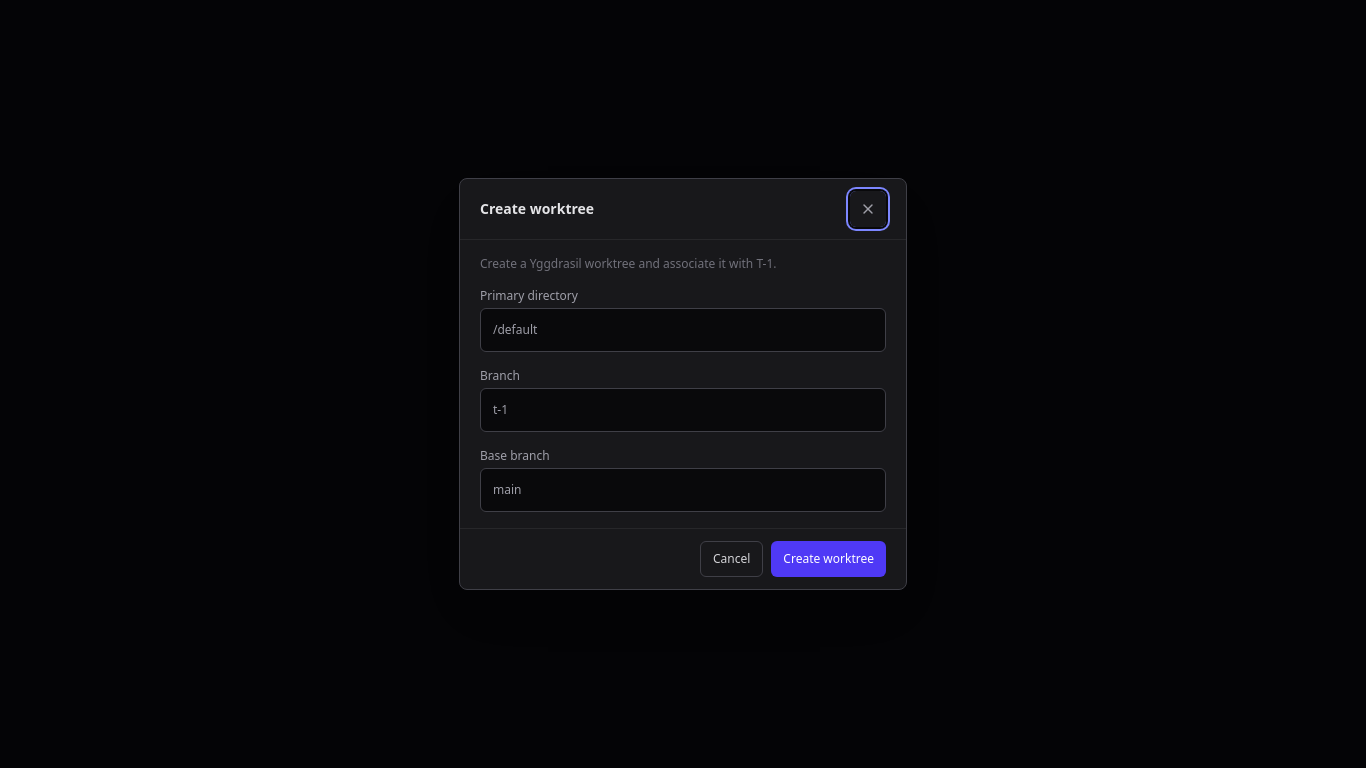
Test: WorktreeModal › preserves editable values and shows server errors
This screenshot has width=1366, height=768.
Replace the text in the field labelled "Primary directory" with "/custom" at (683, 330), box [480,308,886,352]
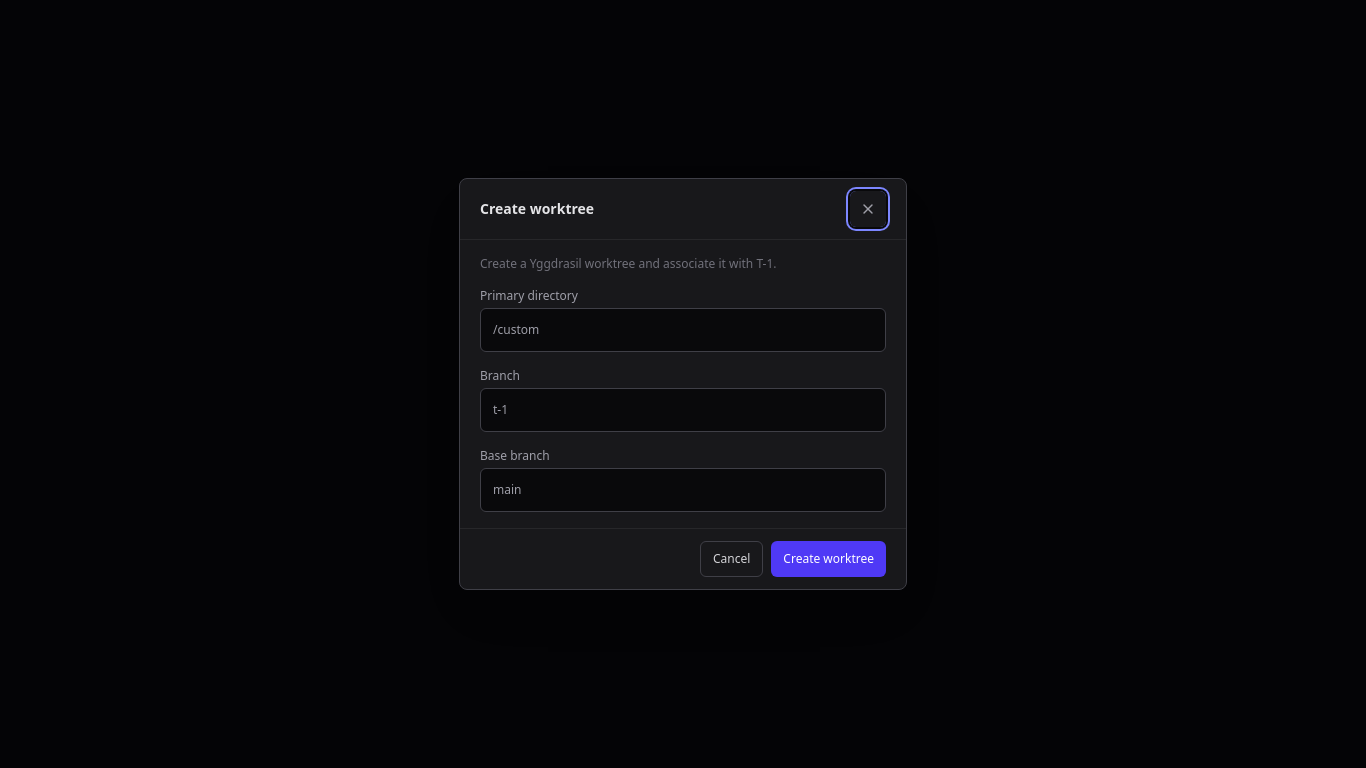
Click the button "Create worktree" at (829, 559), box [771,541,886,577]
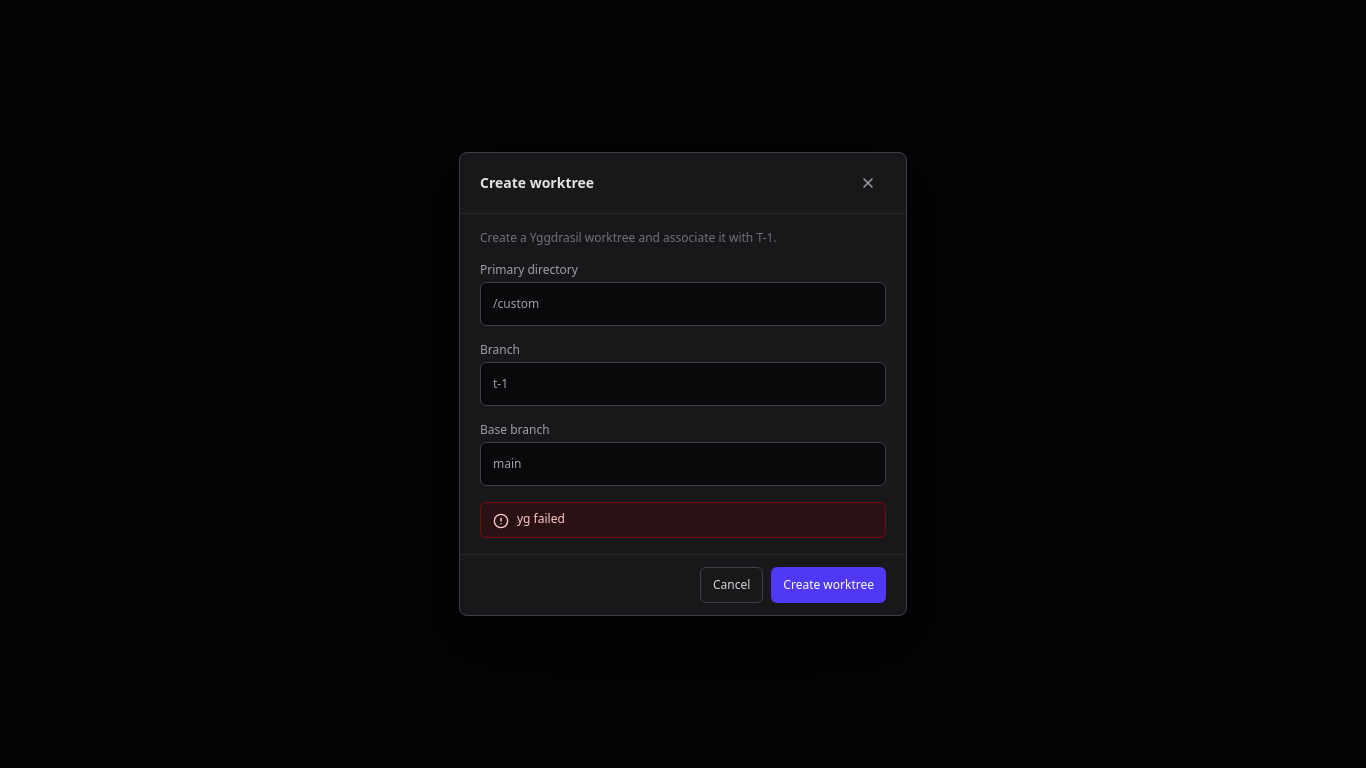
Expected: the button "Create worktree" is enabled, [771,567,886,603]
Expected: the message reads "yg failed", [517,510,565,527]
